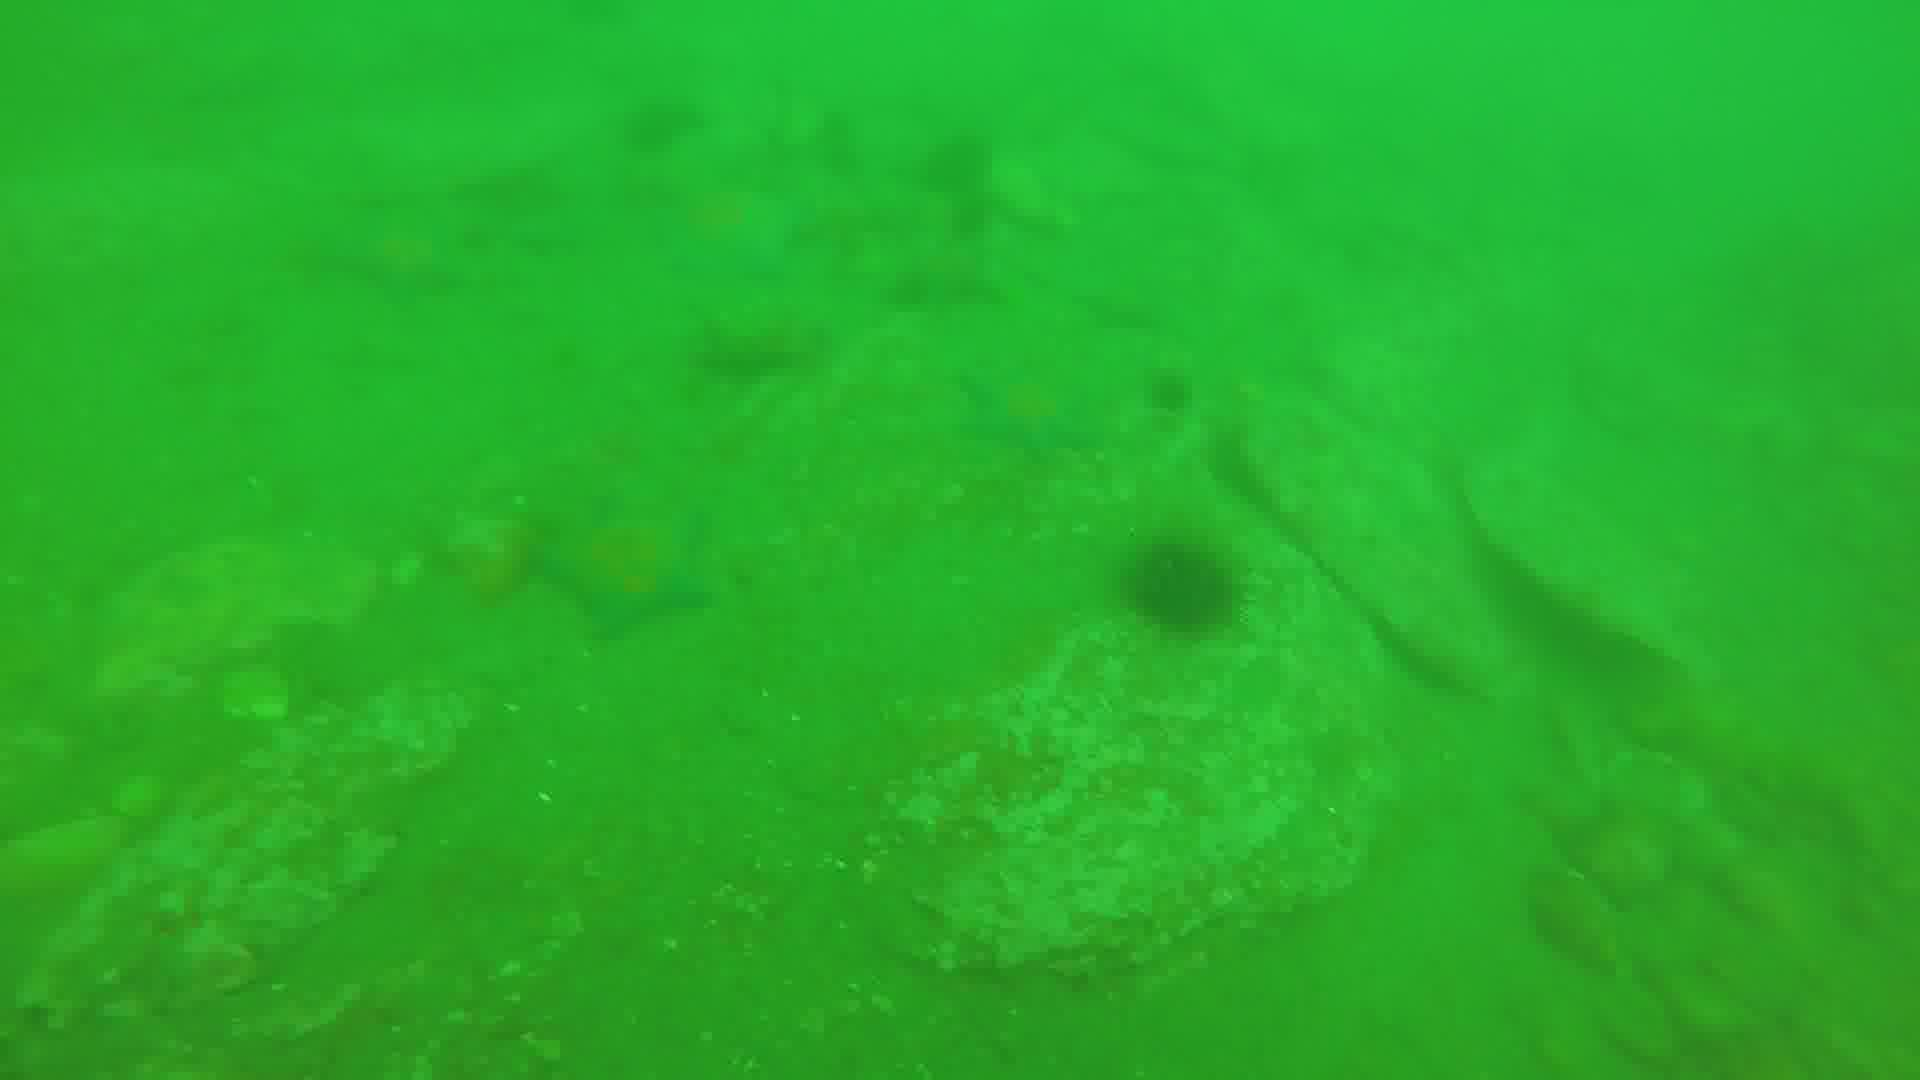echinus: (1134, 543, 1247, 638)
starfish: (542, 477, 717, 634), (969, 371, 1096, 455), (887, 231, 1006, 316), (703, 313, 820, 382)
